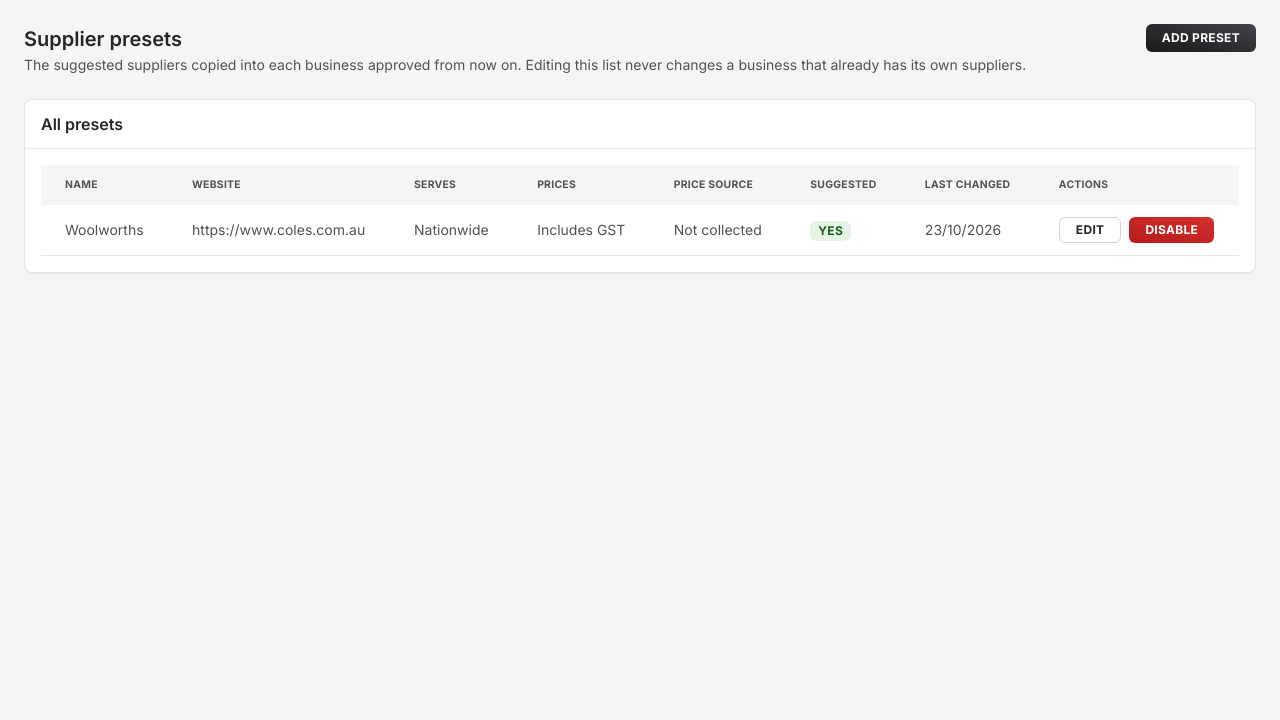
Scenario: SuperAdminSupplierPresetsComponent (issue #848) › opens the Edit dialog for the row it was pressed on, and re-reads the list once saved
Expected: the row that starts with "Woolworths" is shown, [41,205,1239,255]
Click the button "Edit": (1090, 230) [1059,217,1121,243]
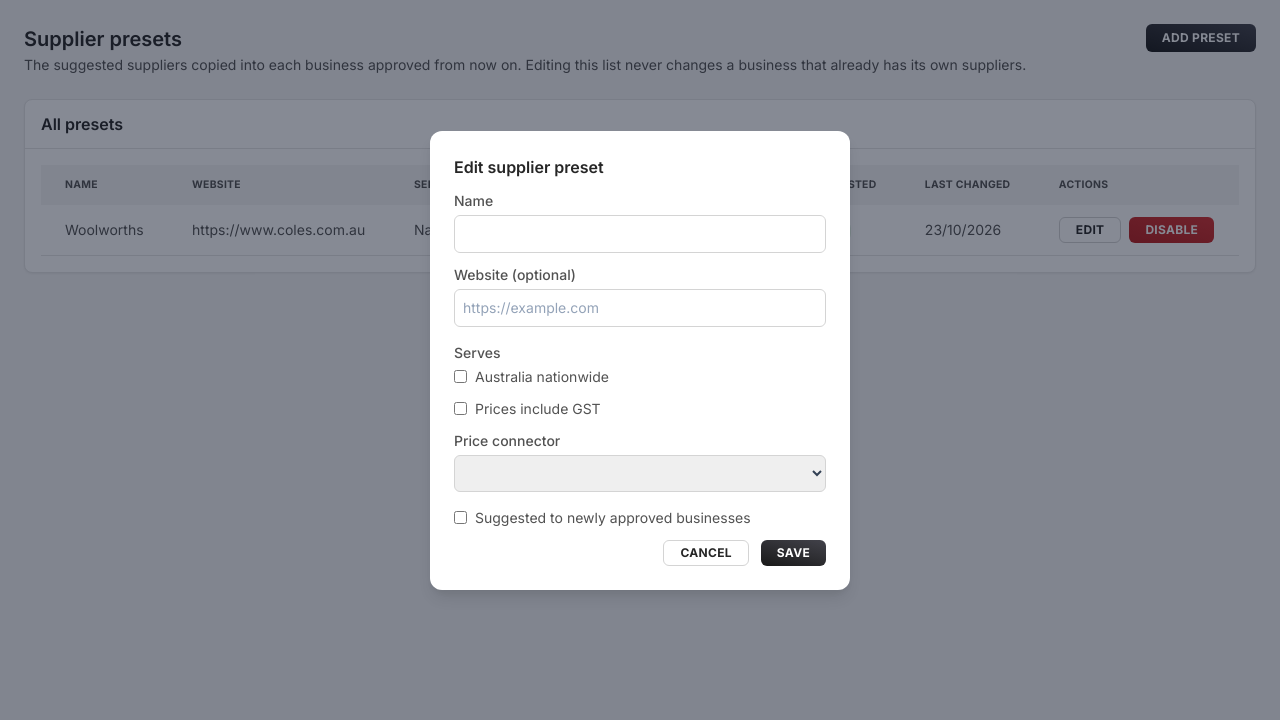
Result: the text "Edit supplier preset" is shown at [454,156,604,176]
